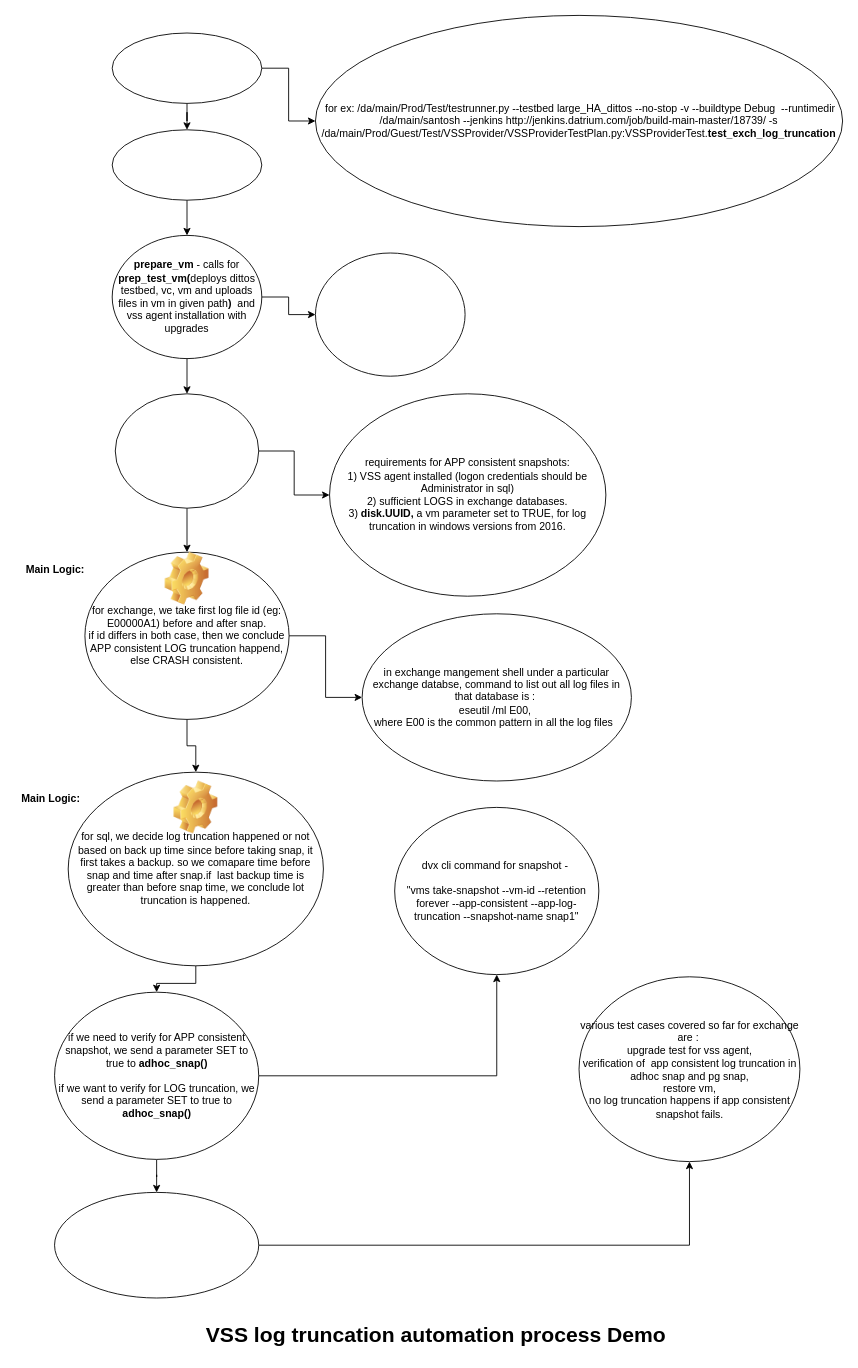
Image size: 858x1368. Some labels were removed from this diagram. Here are the shapes that lost their labels. From the top down, the centre of each, then its label:
At (x=186, y=67): "Execution command (pass the function to execute)".
At (x=186, y=164): "supply parameter for prepare_vm (like win2016-exch2016)".
At (x=390, y=314): "interaction to deployed vm is through cygwin terminal.".
At (x=186, y=450): "based on sql or exchange, verification methods for log truncation differs.".
At (x=156, y=1245): "Similarly, we verify for log truncation in case of PG's.".
